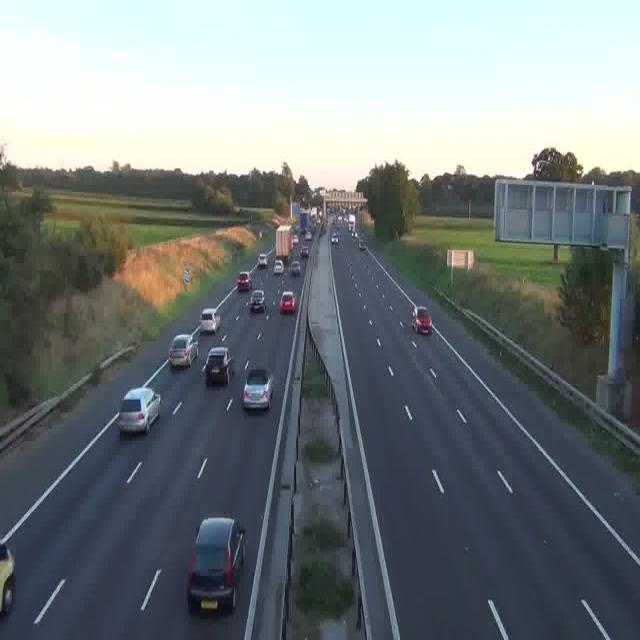car: (188, 516, 246, 612), (118, 386, 162, 434), (242, 365, 272, 410), (204, 345, 234, 384), (0, 541, 15, 618), (168, 334, 198, 369), (412, 306, 432, 333), (200, 307, 218, 333), (250, 289, 266, 312), (280, 290, 296, 313), (236, 271, 251, 290), (290, 258, 301, 276), (274, 260, 284, 276), (258, 254, 268, 268), (300, 246, 308, 259), (331, 233, 339, 244), (305, 233, 313, 243), (359, 239, 366, 250)
truck: (276, 225, 292, 260), (307, 212, 316, 234), (348, 214, 356, 235)
